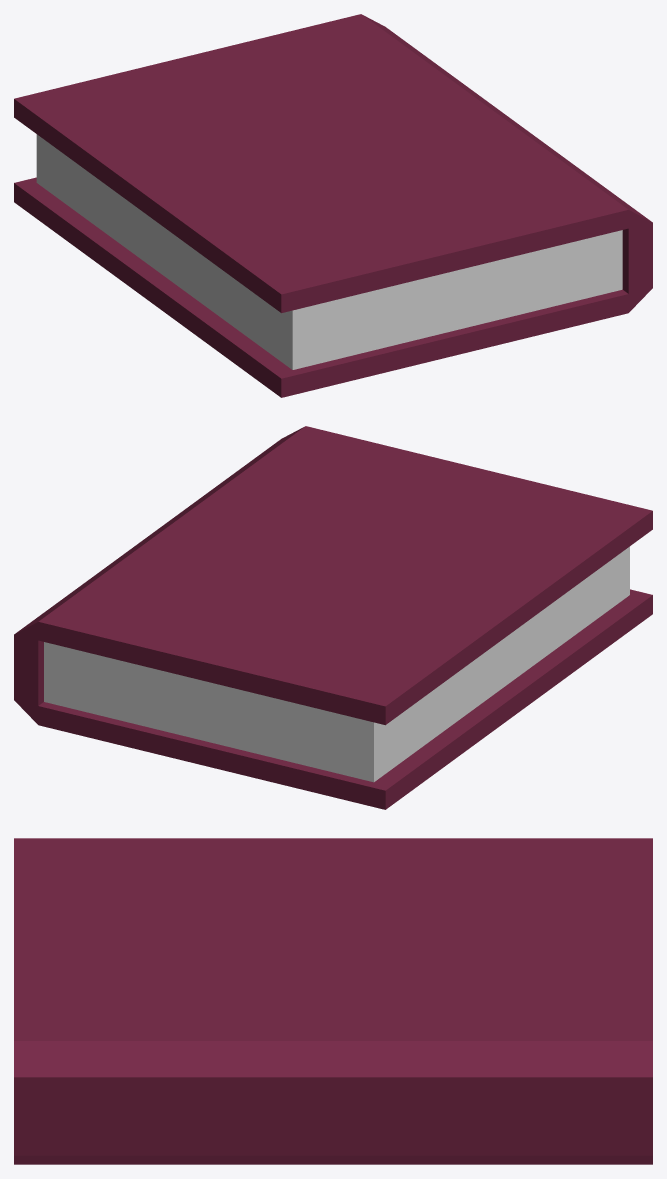
Rendered from tome_2.glb.
The picture shows the model from 3 angles, top to bottom: view 1: azimuth 30°, elevation 25°; view 2: azimuth 150°, elevation 25°; view 3: azimuth 270°, elevation 25°; orthographic projection. The views are drawn at different scales.
Parts seen in each view (by area): view 1: tome_2; view 2: tome_2; view 3: tome_2.
Part boxes in pixels (<box>): tome_2: <box>14,14,652,397</box>; tome_2: <box>14,426,652,809</box>; tome_2: <box>14,838,652,1164</box>.
Size of the model in its own units: 0.2169 by 0.0577 by 0.2704.
